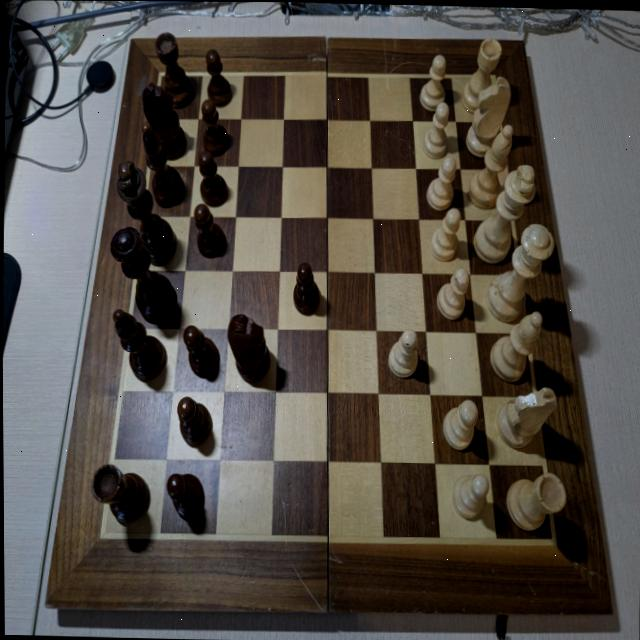black_bishop: (109, 308, 168, 380), (139, 121, 184, 207)
black_king: (113, 159, 176, 266)
black_knight: (139, 81, 186, 160), (225, 312, 270, 381)
black_pawn: (180, 324, 220, 380), (164, 470, 205, 520), (191, 200, 226, 257), (175, 397, 212, 447), (203, 48, 233, 106), (197, 150, 227, 206), (200, 98, 229, 154), (293, 262, 321, 316)
black_queen: (108, 228, 178, 320)
black_rook: (90, 463, 149, 522), (153, 31, 194, 109)
white_bishop: (487, 309, 543, 383), (465, 122, 513, 207)
white_king: (470, 160, 535, 264)
white_knight: (495, 383, 557, 448), (463, 78, 510, 157)
white_pawn: (441, 397, 479, 451), (435, 266, 469, 322), (450, 471, 488, 520), (428, 203, 460, 260), (418, 52, 447, 113), (425, 154, 456, 210), (386, 328, 419, 378), (422, 101, 450, 158)
white_queen: (483, 221, 556, 332)
white_rook: (504, 468, 567, 529), (460, 36, 501, 114)
